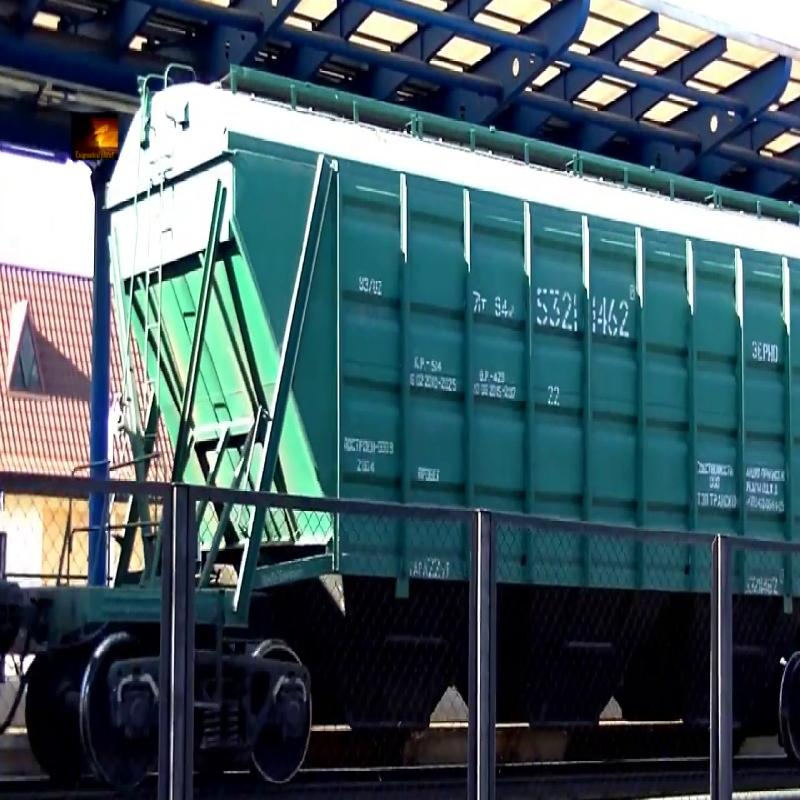train: (100, 39, 800, 703)
